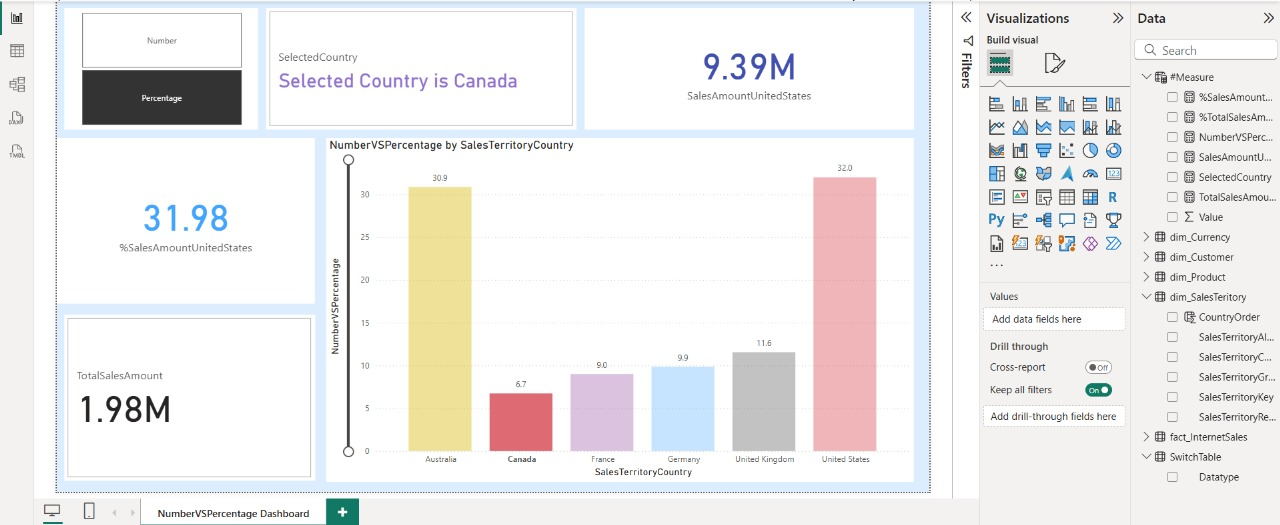

The page's visual inventory and layout, read from the dashboard file:
{"tool":"powerbi","page":{"name":"NumberVSPercentage Dashboard","canvas":[1280,720],"ordinal":0},"visuals":[{"type":"slicer","fields":{"Values":["SwitchTable.Datatype"]},"box":[11,9.6,284,178.4],"z":0},{"type":"cardVisual","fields":{"Data":["#Measure.TotalSalesAmount"]},"box":[11,459.7,367.8,244.3],"z":1},{"type":"card","fields":{"Values":["#Measure.SalesAmountUnitedStates"]},"box":[773.9,9.6,483,178.4],"z":2},{"type":"card","fields":{"Values":["#Measure.%SalesAmountUnitedStates"]},"box":[0,200.3,378.7,242.9],"z":3},{"type":"cardVisual","fields":{"Data":["#Measure.SelectedCountry"]},"box":[307.4,9.6,455.6,178.4],"z":4},{"type":"clusteredColumnChart","fields":{"Category":["dim_SalesTeritory.SalesTerritoryCountry"],"Y":["#Measure.NumberVSPercentage"]},"box":[395.2,200.3,861.8,503.6],"z":5}]}

Visuals, with their boxes on the page's 1280x720 design canvas (x1, y1, x2, y2). These are canvas units, not pixel positions in the 1280x525 screenshot, which may show the page scaled, cropped or inside an application window:
slicer - SwitchTable.Datatype: x1=11 y1=10 x2=295 y2=188
cardVisual - #Measure.TotalSalesAmount: x1=11 y1=460 x2=379 y2=704
card - #Measure.SalesAmountUnitedStates: x1=774 y1=10 x2=1257 y2=188
card - #Measure.%SalesAmountUnitedStates: x1=0 y1=200 x2=379 y2=443
cardVisual - #Measure.SelectedCountry: x1=307 y1=10 x2=763 y2=188
clusteredColumnChart - dim_SalesTeritory.SalesTerritoryCountry x #Measure.NumberVSPercentage: x1=395 y1=200 x2=1257 y2=704
